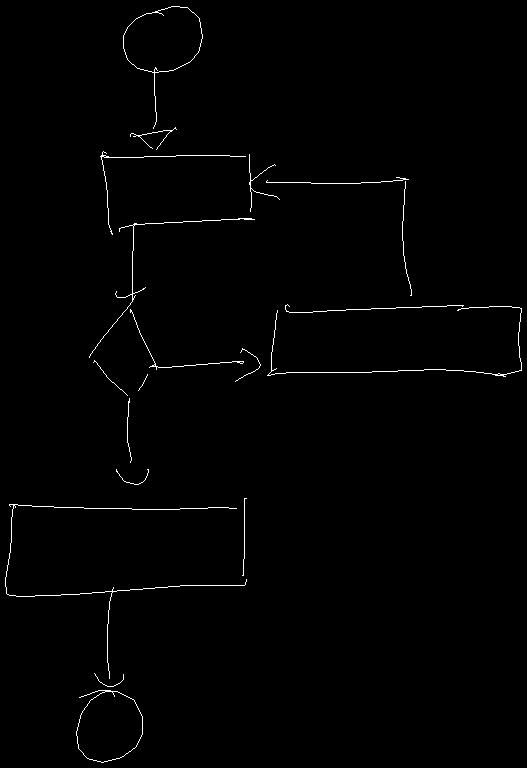arrow: (249, 164, 411, 295), (130, 67, 176, 149), (149, 348, 260, 381), (94, 587, 123, 686), (116, 398, 148, 484), (115, 223, 145, 300)
connection: (123, 6, 202, 72), (76, 690, 142, 762)
decision: (89, 295, 156, 395)
process: (5, 498, 246, 596), (267, 304, 521, 376), (100, 151, 254, 234)
